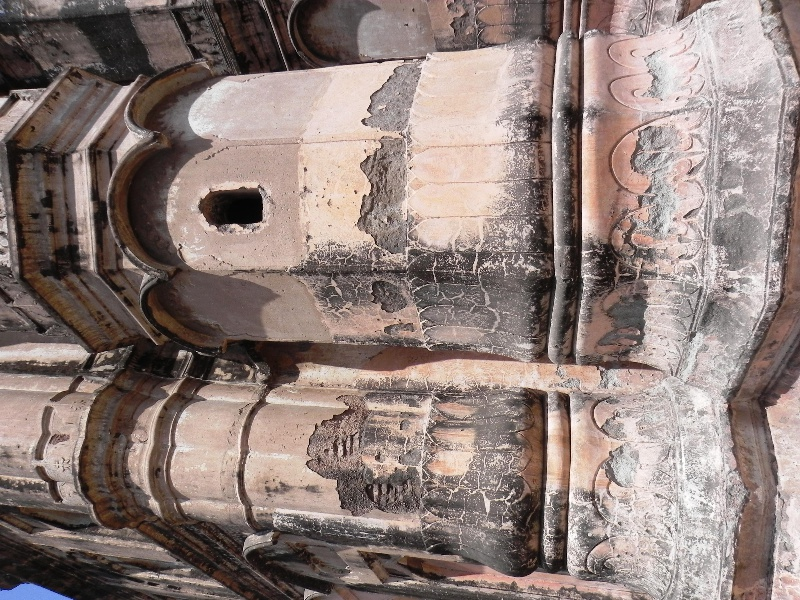Spalling: (349, 59, 420, 340), (295, 401, 432, 513)
